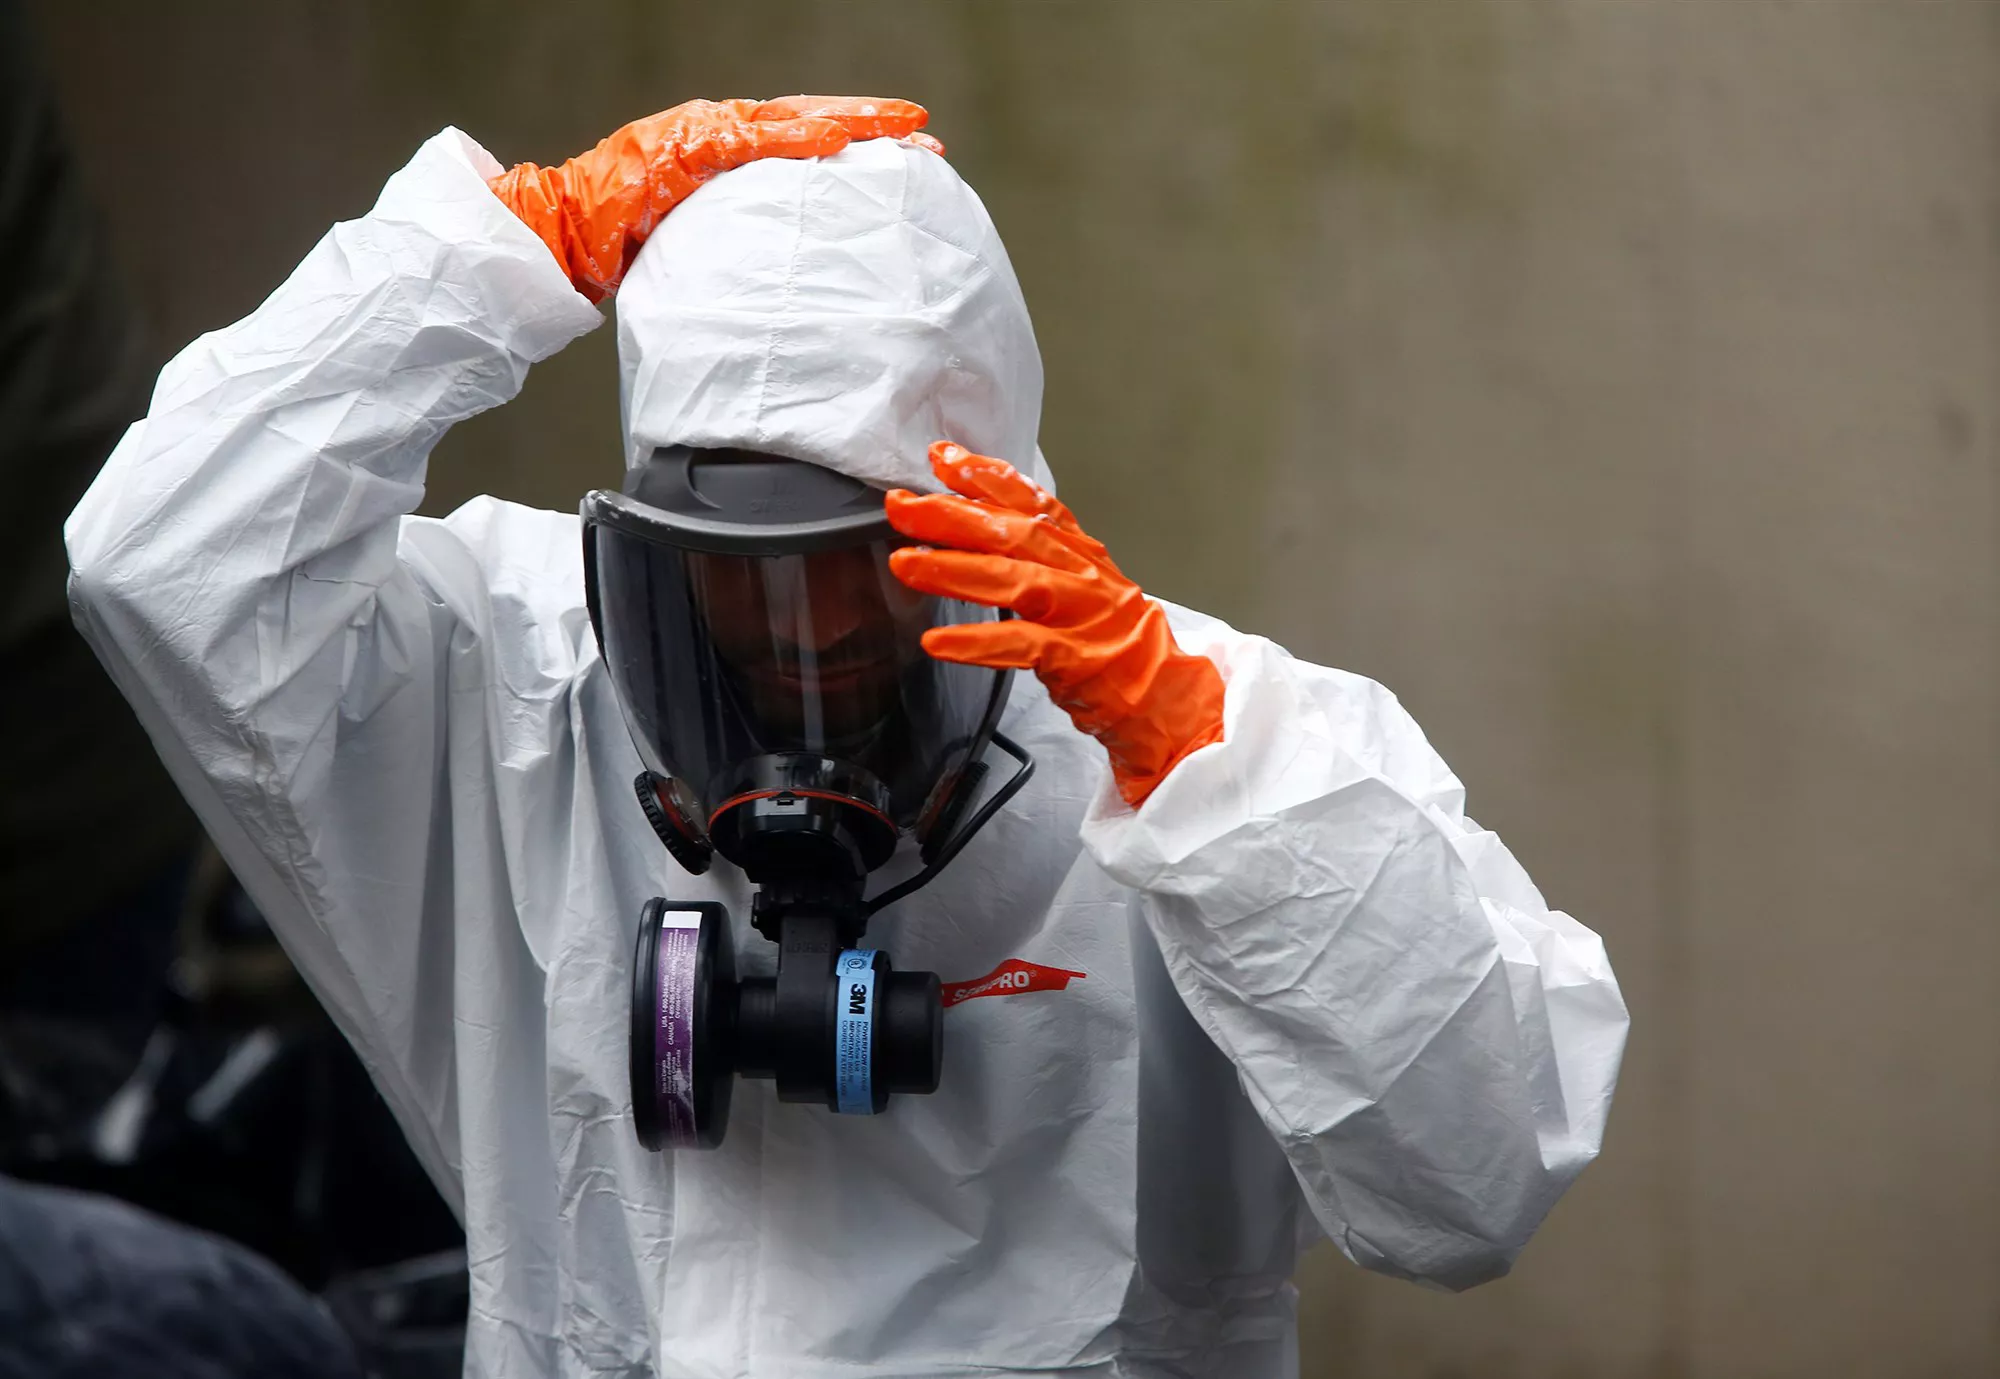Coverall: (180, 494, 1601, 1379)
Gloves: (887, 440, 1216, 802), (497, 79, 951, 285)
with_mask: (580, 443, 997, 876)
